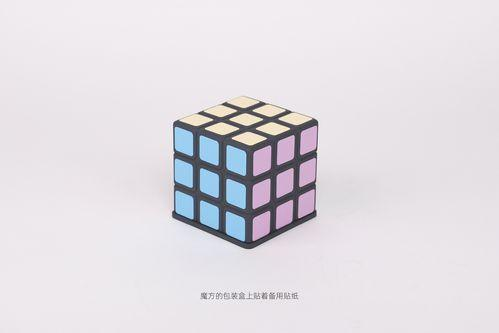cube: (159, 85, 339, 261)
